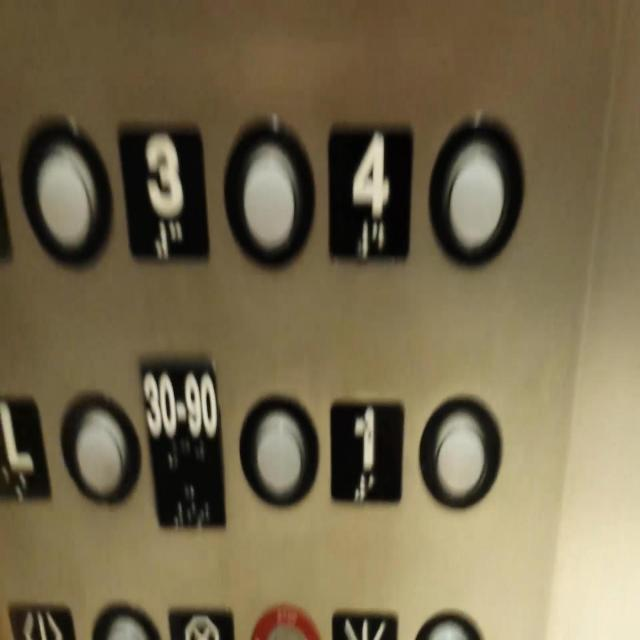1: (325, 390, 407, 512)
3: (113, 117, 212, 266)
4: (324, 113, 416, 270)
empty: (219, 110, 318, 273), (427, 107, 526, 270), (16, 112, 115, 270), (416, 387, 505, 511), (237, 388, 323, 510), (54, 384, 140, 506)
text_30-90: (138, 348, 230, 528)
